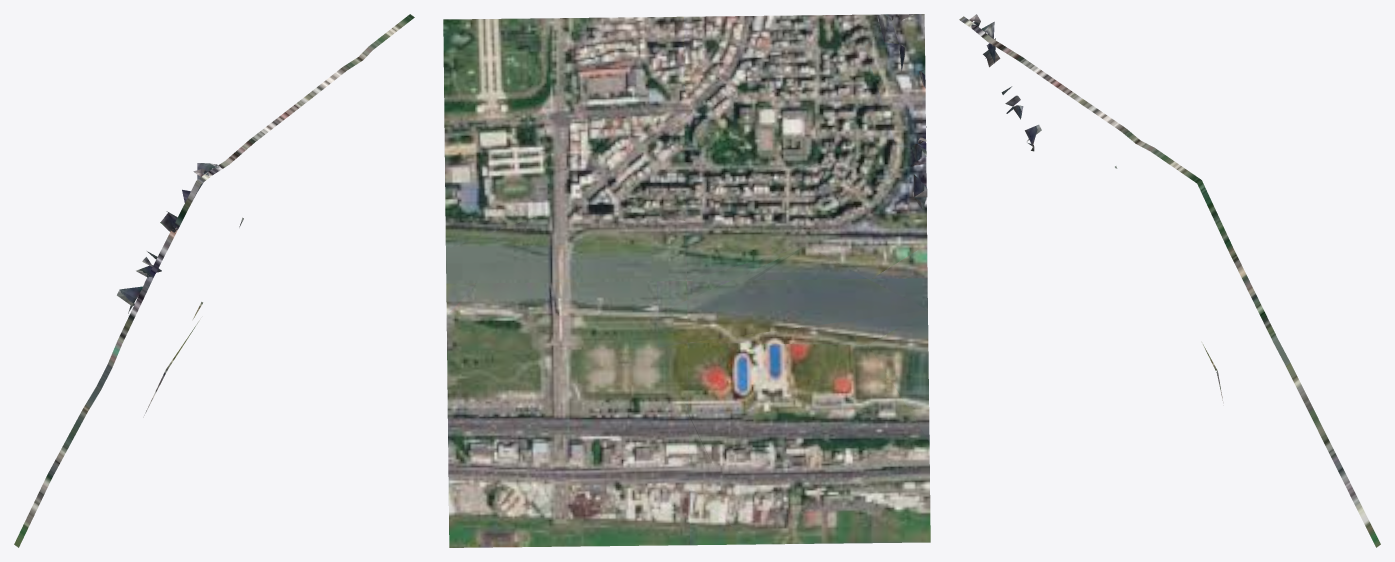
The picture shows the model from 3 angles, left to right: view 1: azimuth 30°, elevation 25°; view 2: azimuth 150°, elevation 25°; view 3: azimuth 270°, elevation 25°; orthographic projection. The views are drawn at different scales.
Bounding box in the file's own units: 1220 × 1122 × 1028.
1 material, 1 textured.
